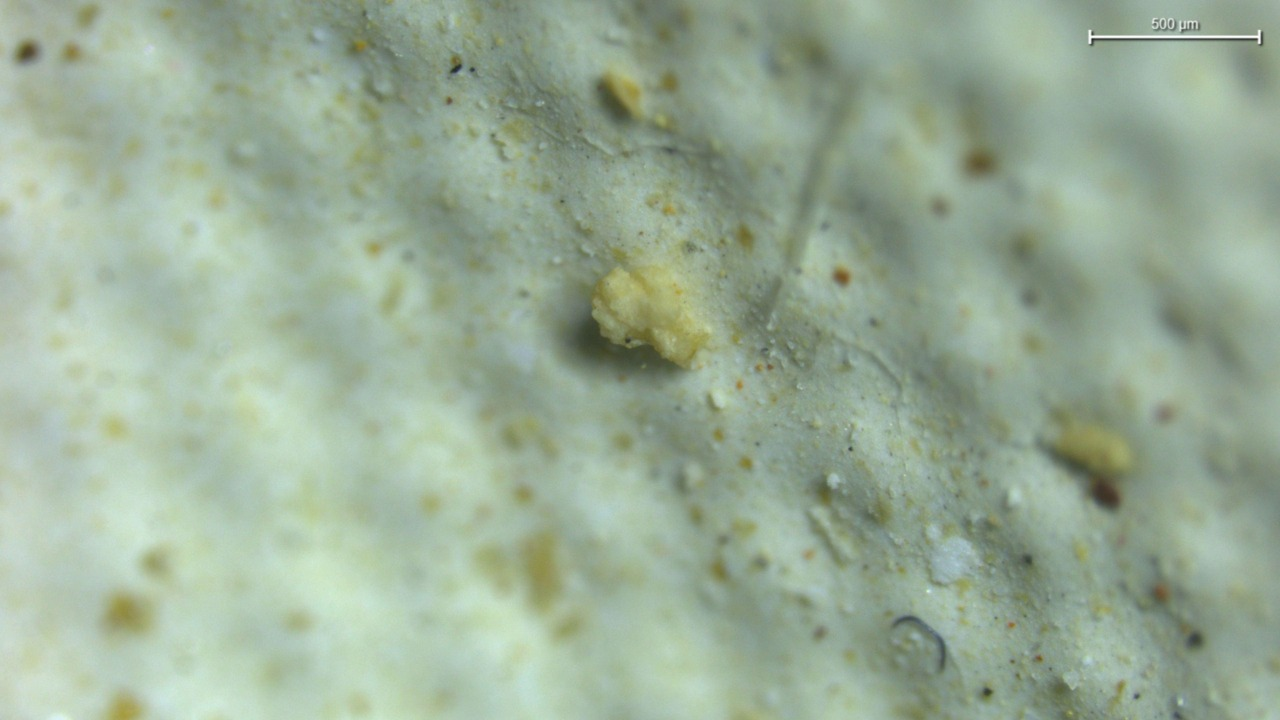microplastic_fragment: (591, 264, 713, 367)
